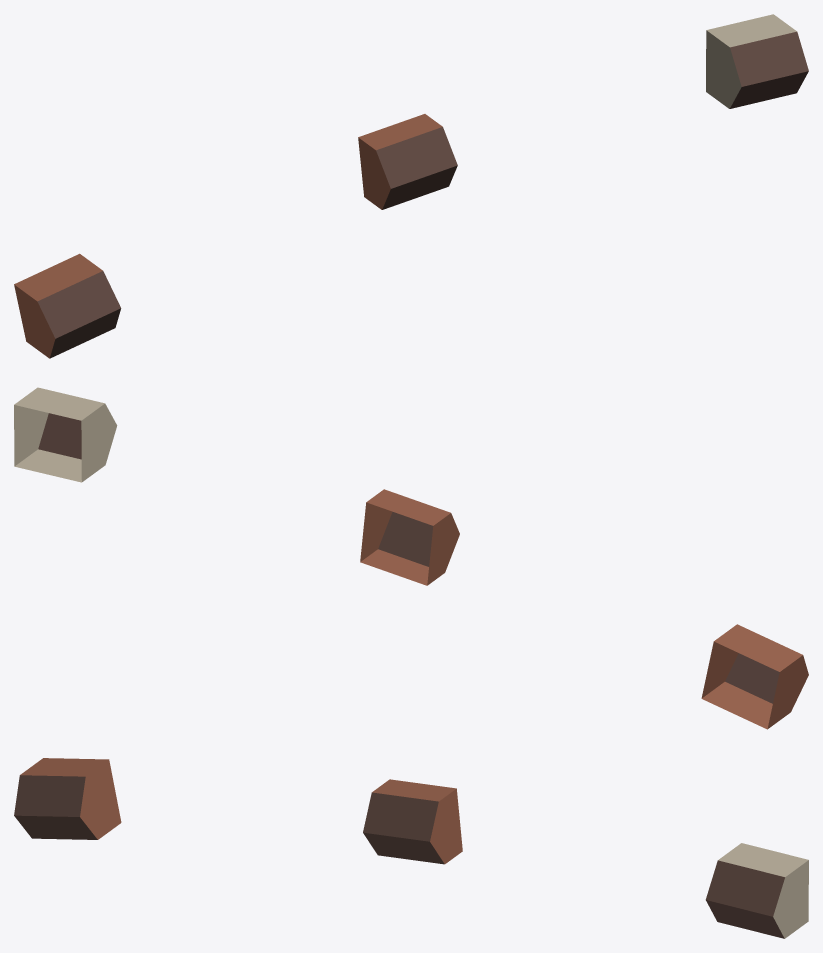
The model's file is island_bldg_03_09.obj.
3 views of the same model, one above another, from view 1: azimuth 30°, elevation 25°; view 2: azimuth 150°, elevation 25°; view 3: azimuth 330°, elevation 25° (orthographic).
Parts seen in each view (by area): view 1: island_bldg_03_09; view 2: island_bldg_03_09; view 3: island_bldg_03_09.
Part boxes in pixels (<box>): island_bldg_03_09: <box>14,14,808,358</box>; island_bldg_03_09: <box>14,387,808,729</box>; island_bldg_03_09: <box>14,758,808,938</box>.
Bounding box in the file's own units: 181 × 32.57 × 15.49.
